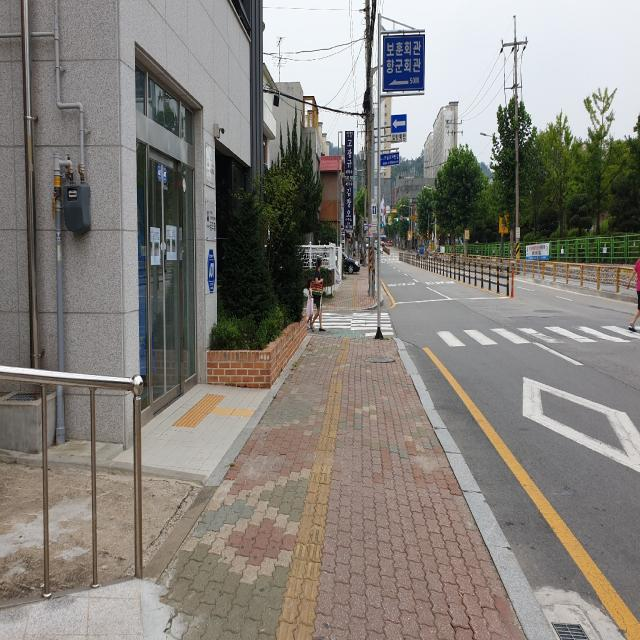횡단보도: (434, 321, 640, 346), (306, 312, 394, 337)
